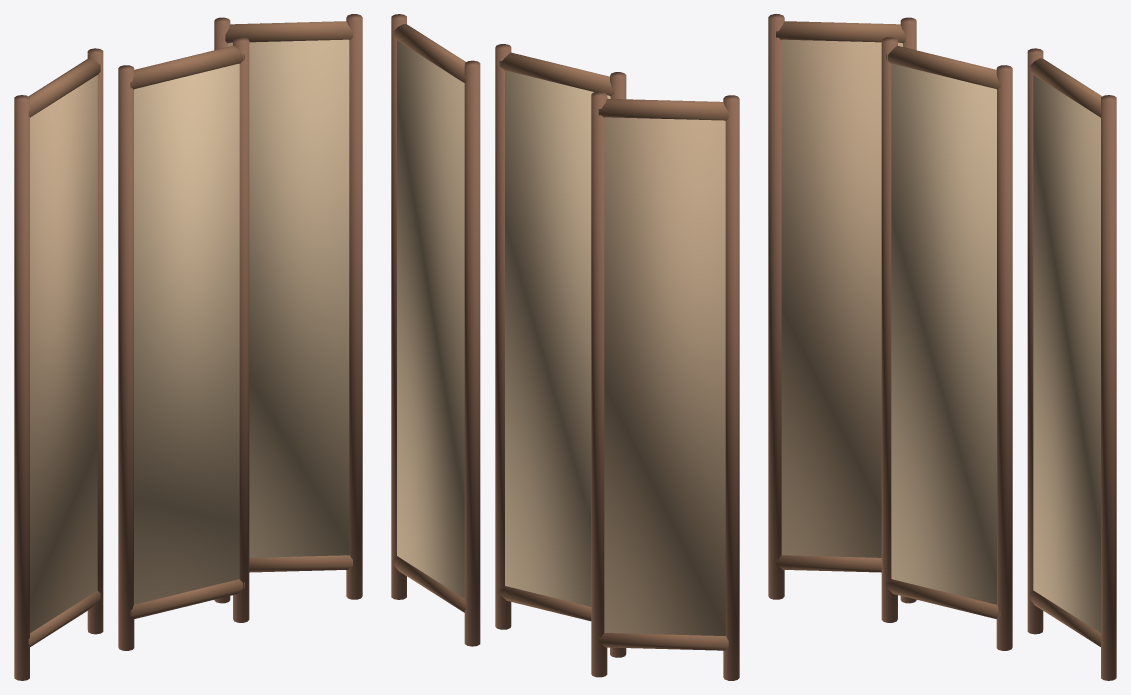
Rendered from Screen.glb.
3 views of the same model, side by side, from view 1: azimuth 30°, elevation 25°; view 2: azimuth 150°, elevation 25°; view 3: azimuth 330°, elevation 25° (orthographic).
Parts seen in each view (by area): view 1: b612__Screen__panels; view 2: b612__Screen__panels; view 3: b612__Screen__panels.
Boxes of the visible parts, left/top/right/bottom form: b612__Screen__panels: left=14, top=14, right=362, bottom=680; b612__Screen__panels: left=391, top=14, right=739, bottom=680; b612__Screen__panels: left=768, top=14, right=1116, bottom=680.
Bounding box in the file's own units: 0.7819 × 1.25 × 0.1464.
